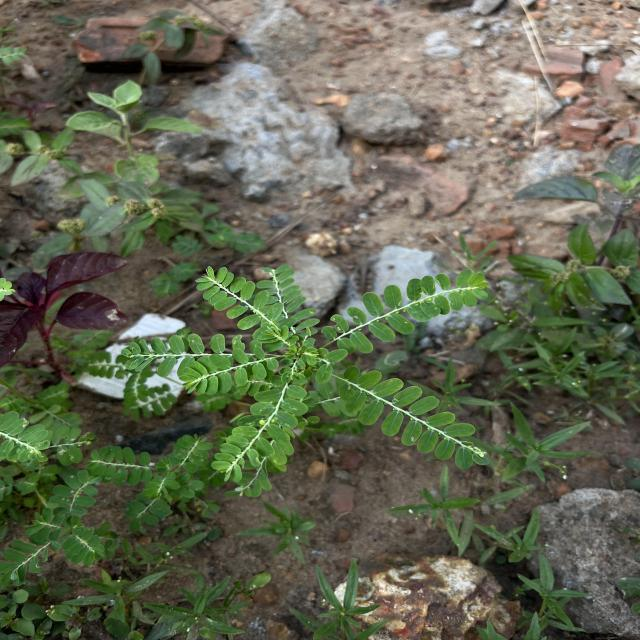Phyllanthus niruri: (330, 364, 495, 471), (318, 266, 494, 356), (210, 376, 309, 486), (188, 263, 287, 343), (116, 330, 248, 373), (176, 352, 283, 398)
